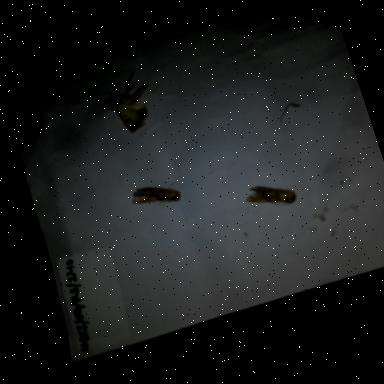abw: (86, 60, 168, 144), (121, 166, 194, 224), (237, 167, 304, 222)
